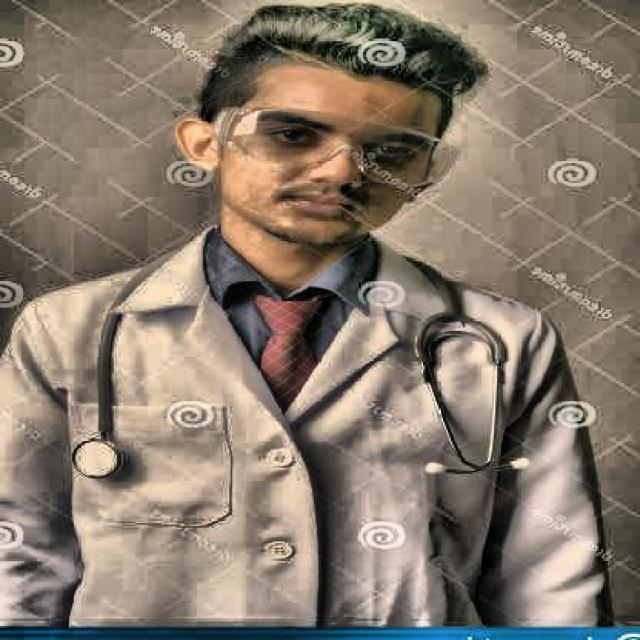Goggles: (190, 96, 474, 197)
